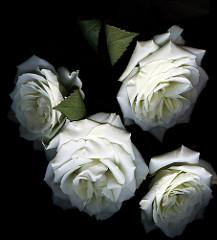Rose: (47, 114, 149, 238), (111, 23, 208, 130), (8, 52, 74, 145), (154, 141, 215, 240)
